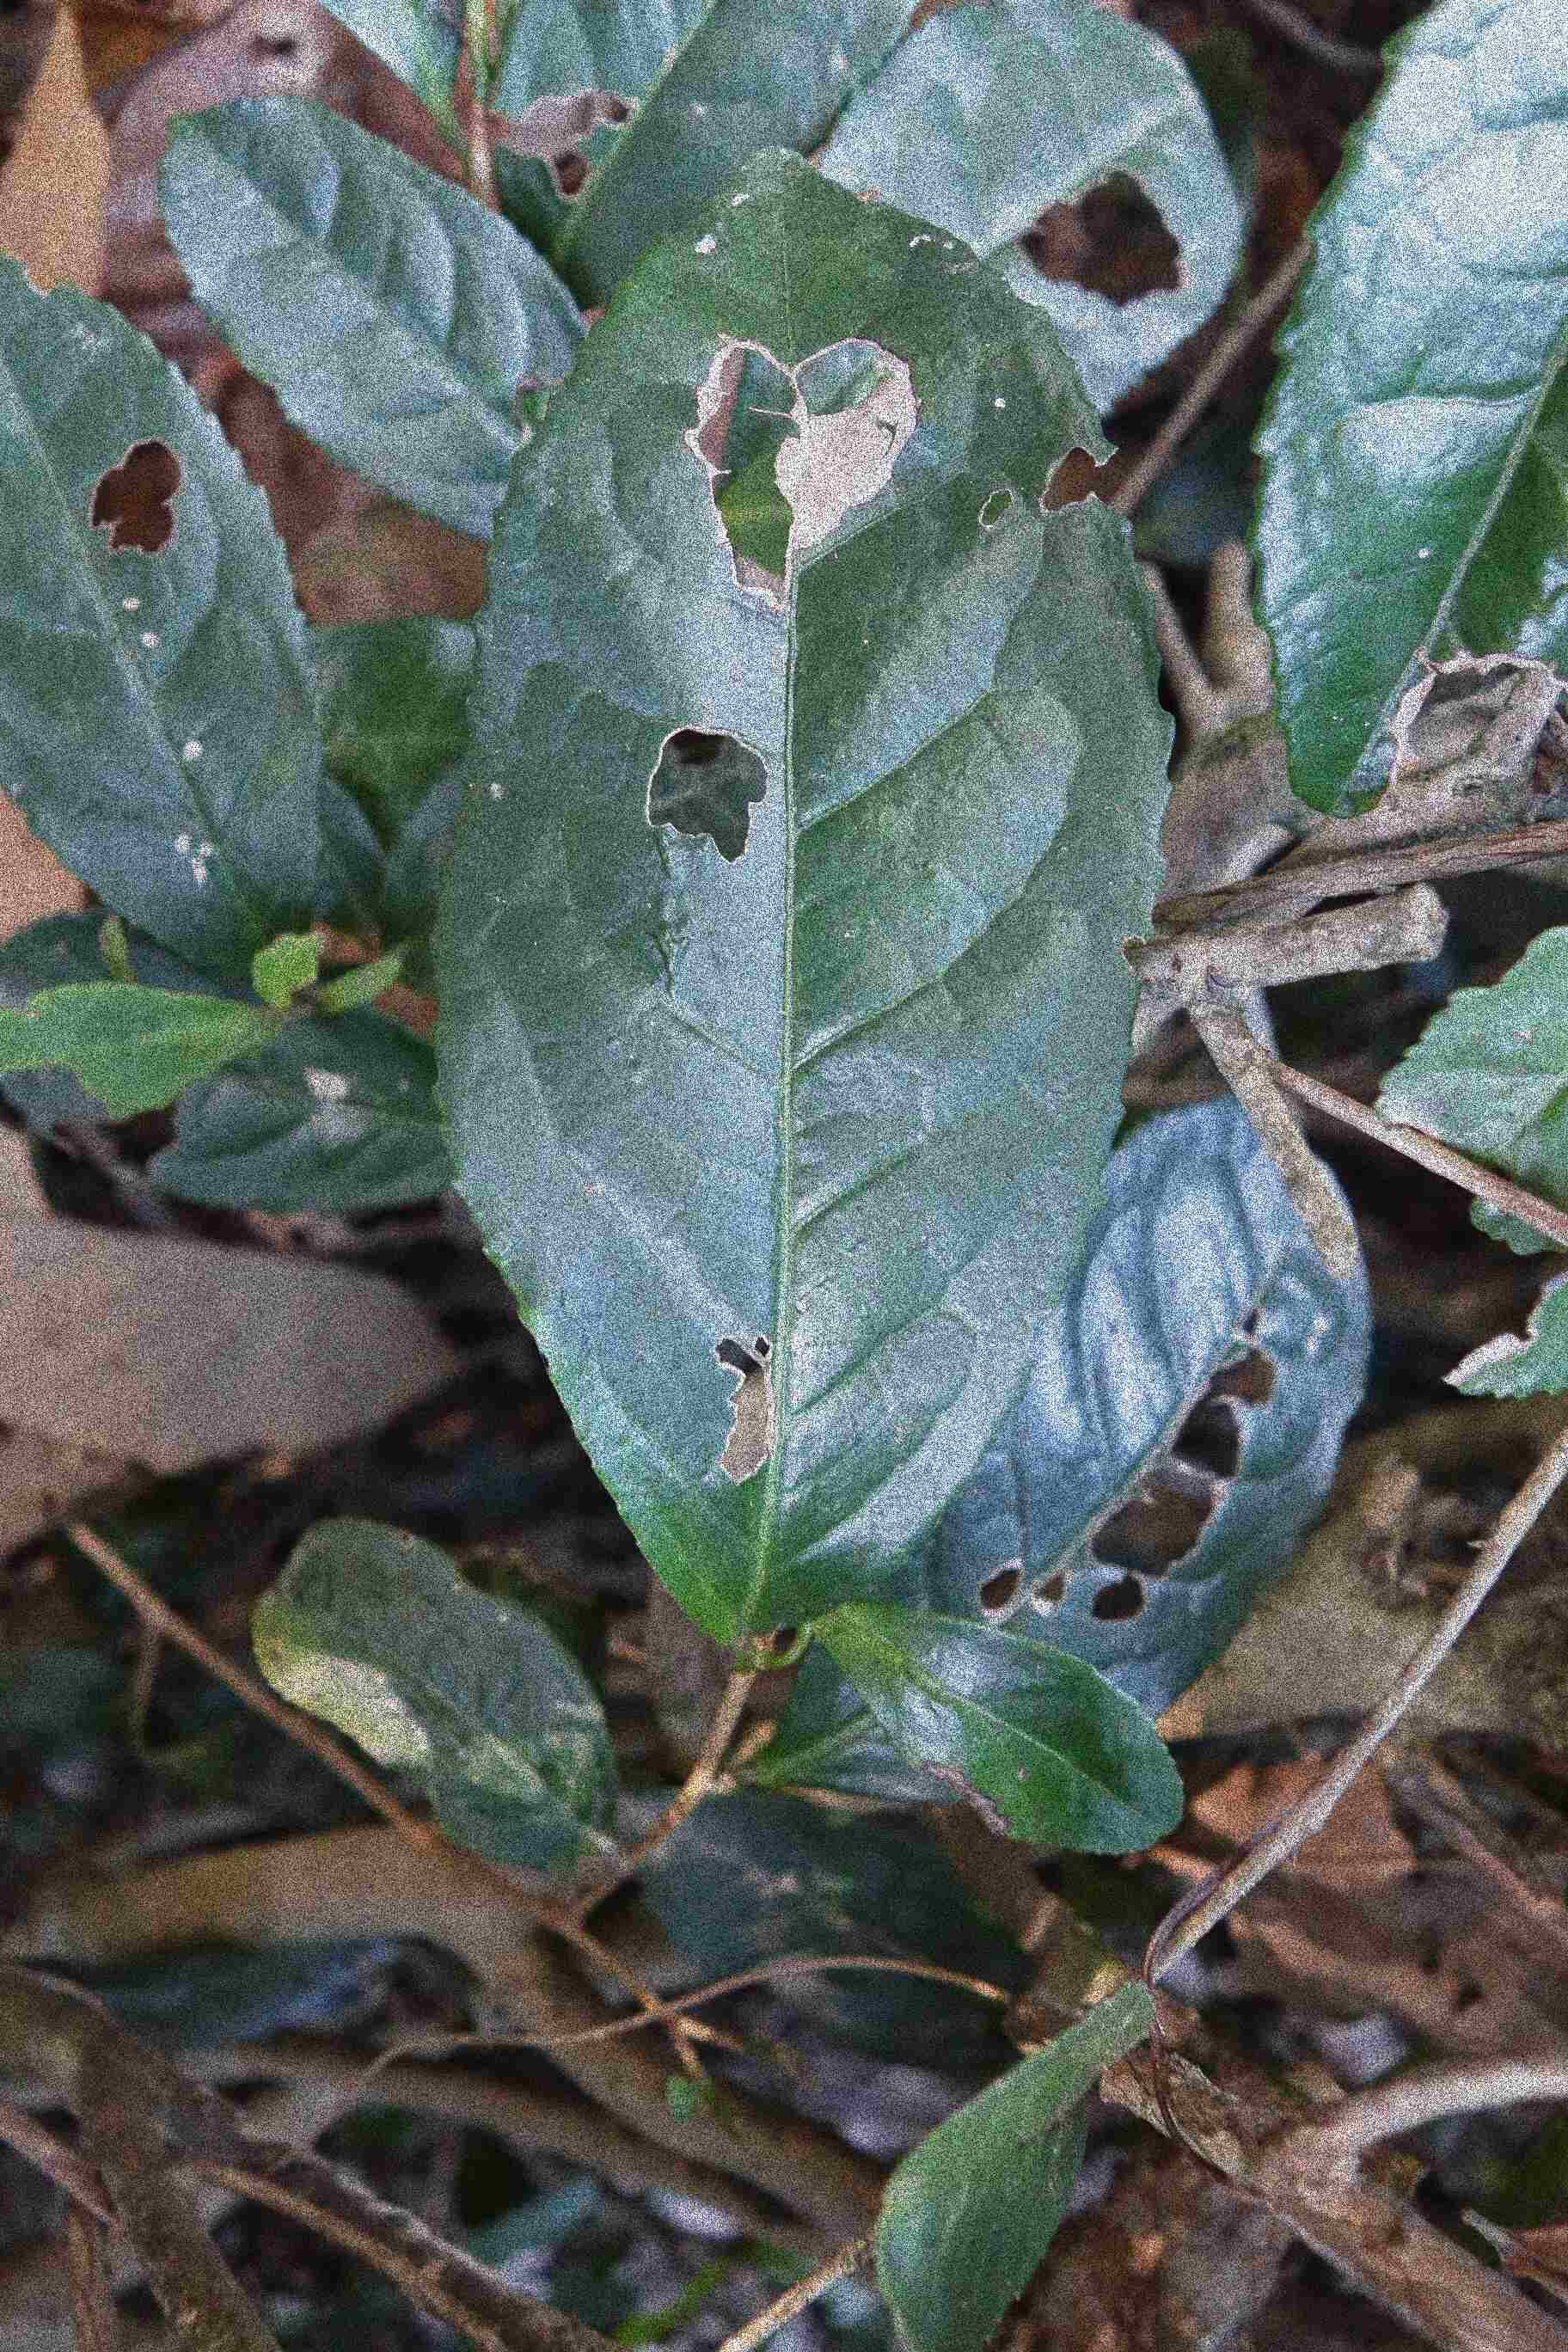chihuo_high: (425, 140, 1172, 1638), (919, 1108, 1372, 1729)
chihuo_low: (1253, 0, 1568, 826), (7, 252, 327, 982), (5, 982, 261, 1127)
tanju_low: (805, 1603, 1183, 1857)
